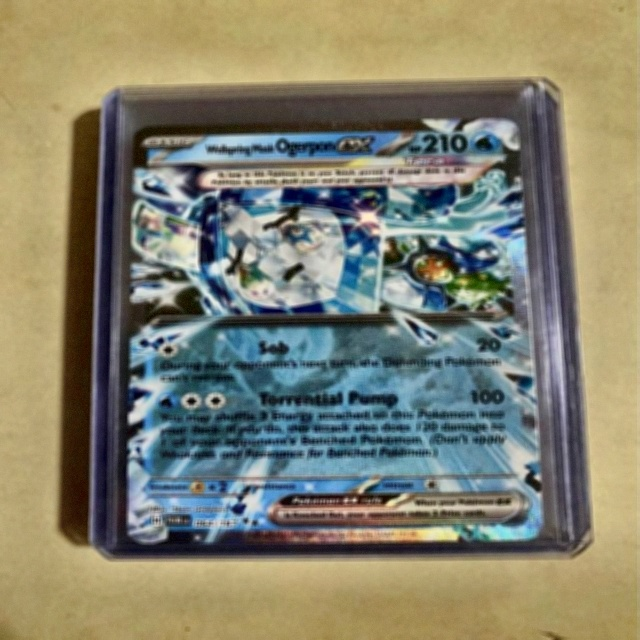card: (124, 116, 547, 545)
